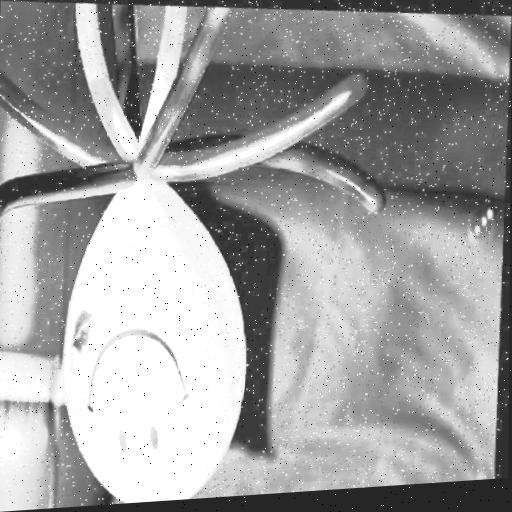balloon: (48, 148, 265, 508)
